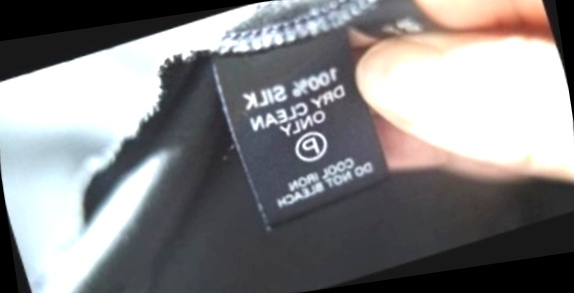dry_clean_any_solvent_except_trichloroethylene: (282, 119, 338, 173)
